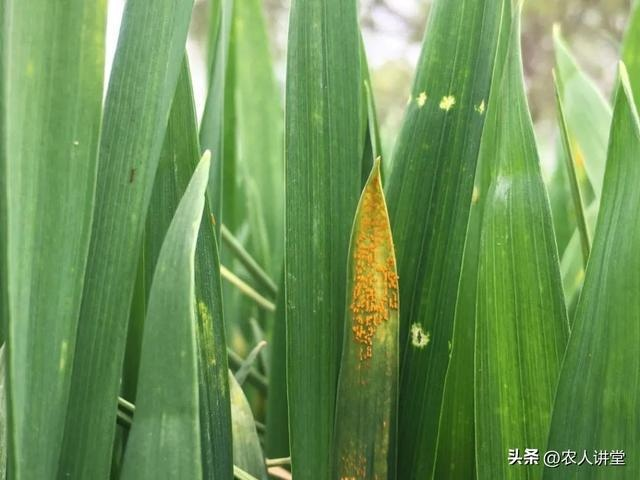Leaf Rust: (328, 178, 427, 346)
